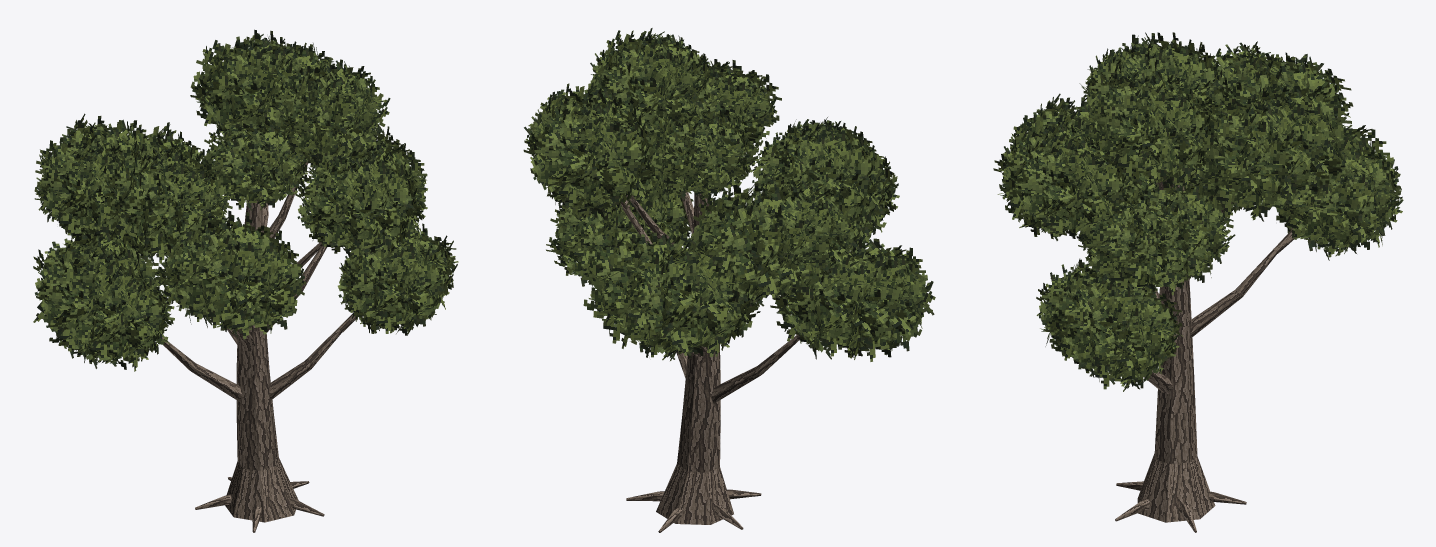
Rendered from TREE_Oak_A.glb.
3 views of the same model, side by side, from view 1: azimuth 30°, elevation 25°; view 2: azimuth 150°, elevation 25°; view 3: azimuth 270°, elevation 25° (orthographic). The views are drawn at different scales.
Visible parts, largest first — view 1: TREE_Oak_A__Card, TREE_Oak_A__Bark; view 2: TREE_Oak_A__Card, TREE_Oak_A__Bark; view 3: TREE_Oak_A__Card, TREE_Oak_A__Bark.
Part boxes in pixels (<box>): TREE_Oak_A__Card: <box>33,29,458,371</box>; TREE_Oak_A__Bark: <box>162,160,355,532</box>; TREE_Oak_A__Card: <box>523,28,935,361</box>; TREE_Oak_A__Bark: <box>620,126,799,532</box>; TREE_Oak_A__Card: <box>993,32,1403,391</box>; TREE_Oak_A__Bark: <box>1115,178,1301,532</box>.
Bounding box in the file's own units: 10.22 × 10.72 × 9.2.
3 materials, 3 textured.
